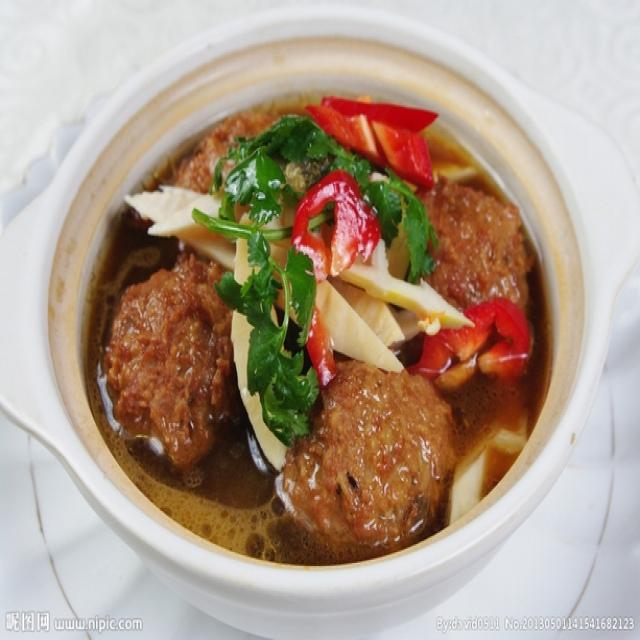Meatball: (279, 352, 457, 554), (97, 248, 248, 466)
